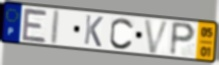C: (108, 17, 135, 51)
E: (20, 6, 49, 44)
I: (49, 8, 62, 46)
K: (83, 14, 105, 49)
P: (168, 20, 198, 58)
V: (142, 18, 171, 55)
